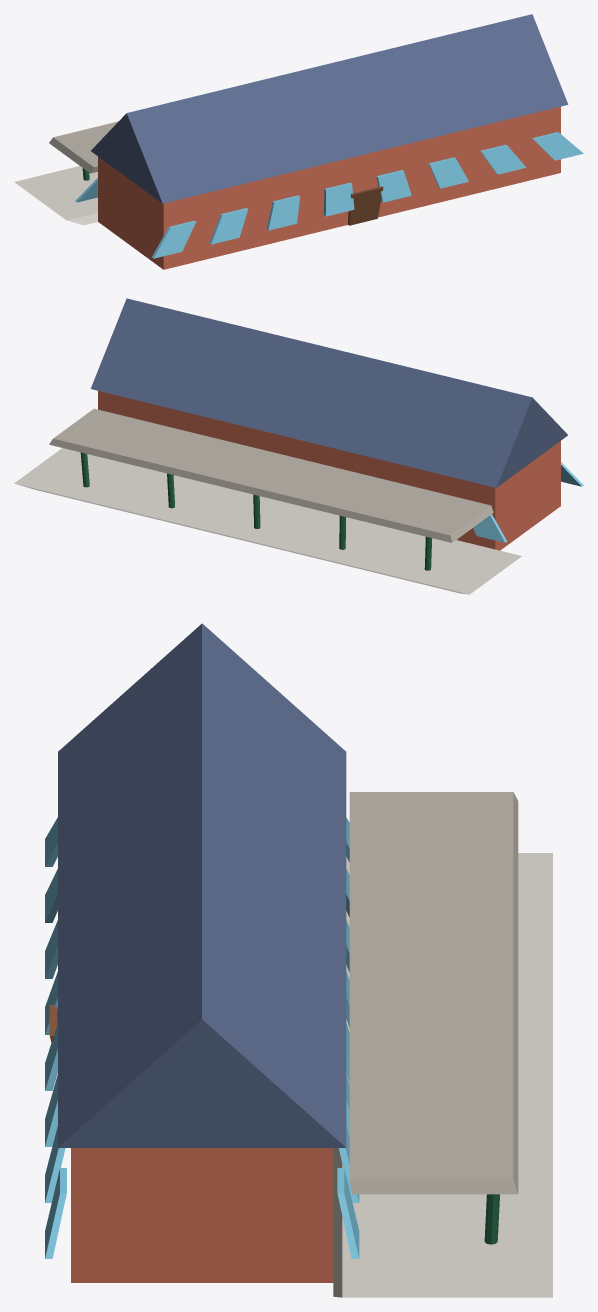
The model's file is train_station.glb.
3 views of the same model, one above another, from view 1: azimuth 30°, elevation 25°; view 2: azimuth 150°, elevation 25°; view 3: azimuth 270°, elevation 25° (orthographic). The views are drawn at different scales.
Visible parts, largest first — view 1: train_station_roof_slate, train_station_brick, train_station_window, train_station_concrete, train_station_roof_flat, train_station_door; view 2: train_station_roof_slate, train_station_concrete, train_station_roof_flat, train_station_brick, train_station_pub_green, train_station_window; view 3: train_station_roof_slate, train_station_roof_flat, train_station_brick, train_station_concrete, train_station_window.
Boxes of the visible parts, x1,y1,x2,y2 form: train_station_roof_slate: (91,14,568,203); train_station_brick: (98,106,560,269); train_station_window: (75,132,583,258); train_station_concrete: (14,166,97,225); train_station_roof_flat: (49,121,118,173); train_station_door: (348,186,383,225); train_station_roof_slate: (90,298,567,487); train_station_concrete: (14,448,521,594); train_station_roof_flat: (49,408,493,542); train_station_brick: (98,391,560,550); train_station_pub_green: (80,452,431,570); train_station_window: (473,462,583,542); train_station_roof_slate: (58,623,346,1147); train_station_roof_flat: (349,792,518,1194); train_station_brick: (71,1148,333,1282); train_station_concrete: (333,853,552,1297); train_station_window: (45,817,359,1258).
Bounding box in the file's own units: 33.4 × 9.38 × 16.12.
